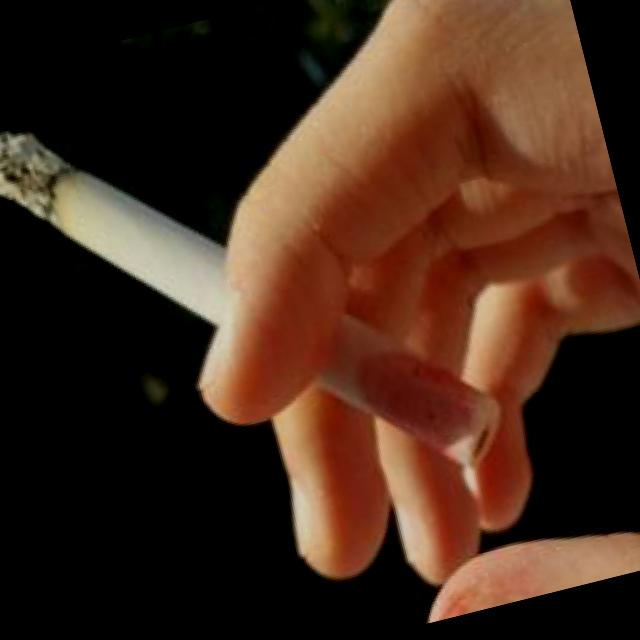smoke: (0, 68, 229, 358)
